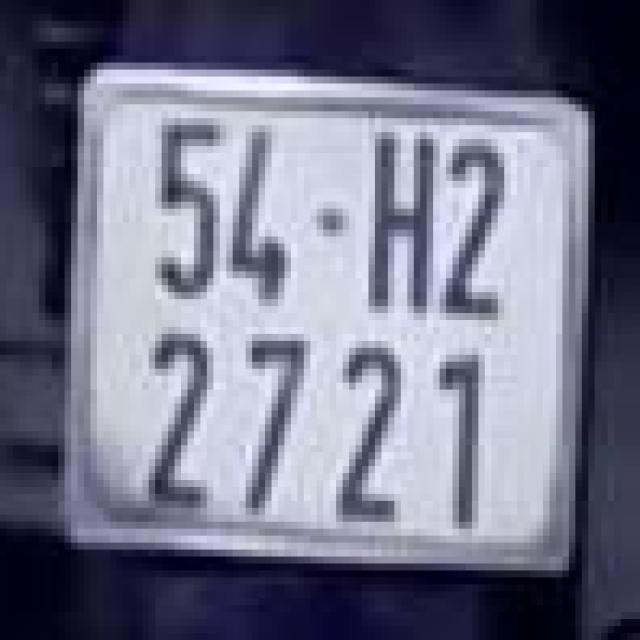1: (426, 341, 511, 542)
2: (123, 320, 226, 522), (333, 331, 423, 532), (433, 122, 511, 330)
4: (220, 108, 297, 316)
5: (149, 108, 226, 316)
7: (236, 317, 313, 518)
H: (359, 122, 436, 330)
